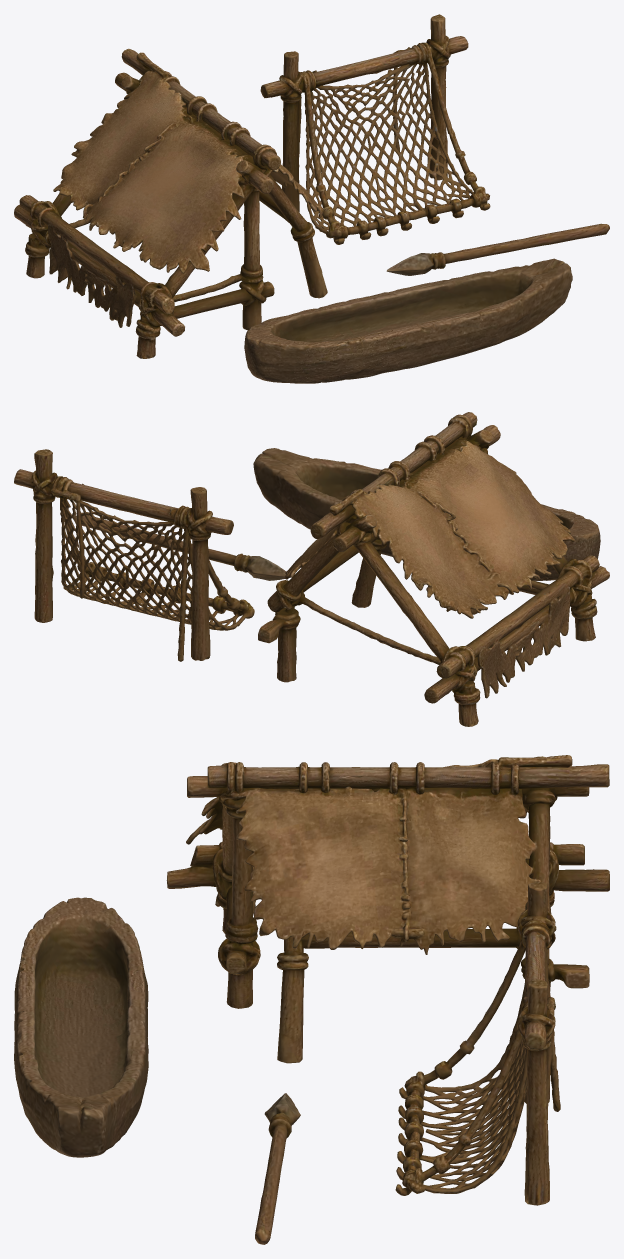
The model's file is Fishing Post (Western).fbx.
The picture shows the model from 3 angles, top to bottom: view 1: azimuth 30°, elevation 25°; view 2: azimuth 150°, elevation 25°; view 3: azimuth 270°, elevation 25°; orthographic projection. The views are drawn at different scales.
Visible parts, largest first — view 1: tripo_node_dc88101a; view 2: tripo_node_dc88101a; view 3: tripo_node_dc88101a.
Part boxes in pixels (bbox=[...]): tripo_node_dc88101a: bbox=[14, 14, 609, 383]; tripo_node_dc88101a: bbox=[14, 412, 609, 726]; tripo_node_dc88101a: bbox=[14, 755, 609, 1244].
Size of the model in its own units: 1 by 0.3723 by 0.7803.
